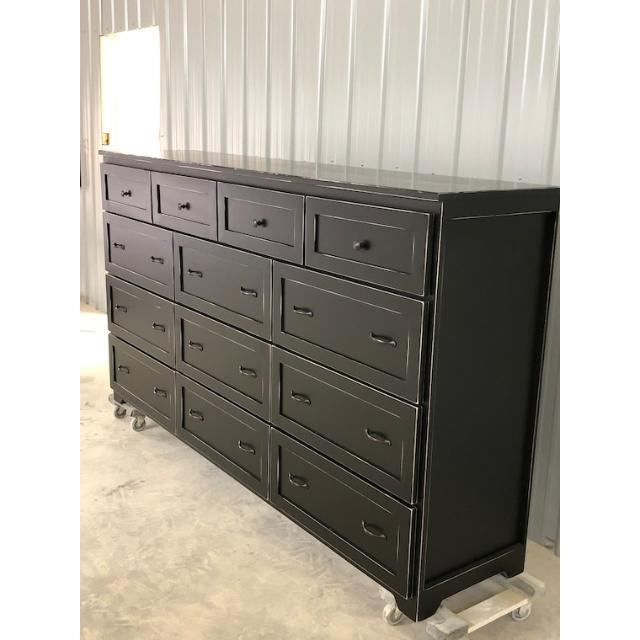dresser: (95, 142, 555, 634)
